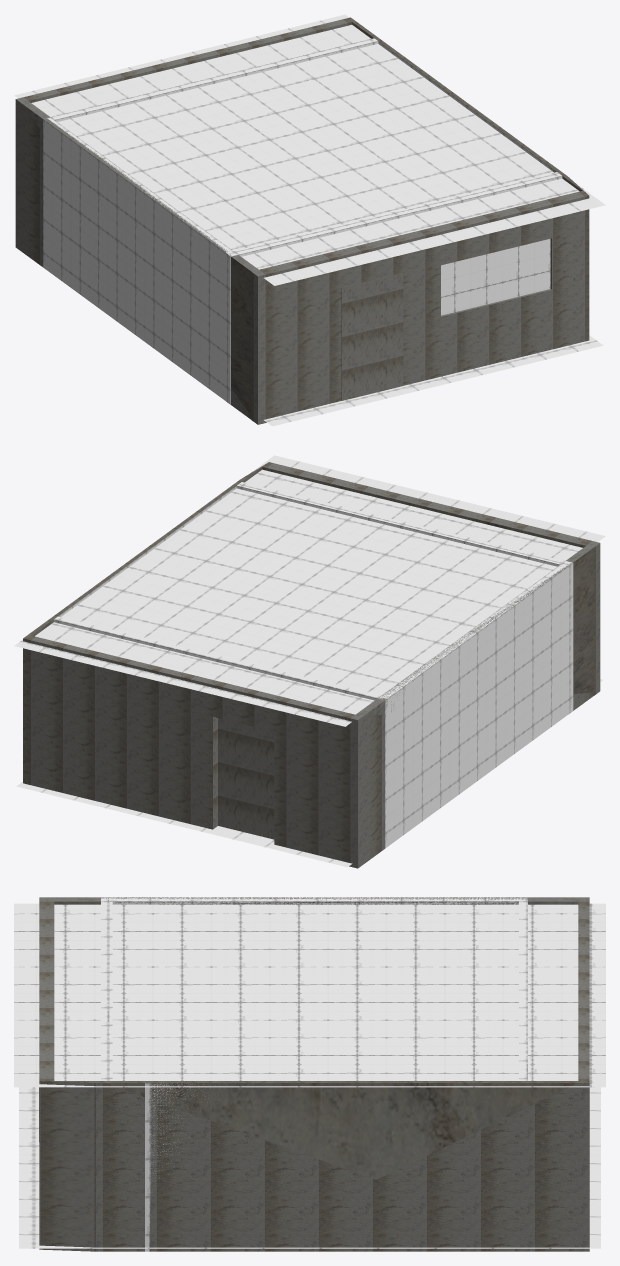
Rendered from RoomWhiteBox.glb.
3 views of the same model, one above another, from view 1: azimuth 30°, elevation 25°; view 2: azimuth 150°, elevation 25°; view 3: azimuth 270°, elevation 25° (orthographic). The views are drawn at different scales.
Parts seen in each view (by area): view 1: Plane__1_, New_Game_Object, Cube.005, Cube_3, Plane; view 2: Plane__1_, New_Game_Object, Cube.005, Plane; view 3: New_Game_Object, Plane__1_, Cube.005, Plane.
Boxes of the visible parts, box(x1,y1,x2,y2) form: Plane__1_: box(14, 14, 605, 285); New_Game_Object: box(15, 17, 589, 424); Cube.005: box(43, 38, 562, 404); Cube_3: box(441, 238, 550, 315); Plane: box(264, 335, 603, 426); Plane__1_: box(14, 455, 605, 726); New_Game_Object: box(23, 462, 600, 868); Cube.005: box(54, 482, 573, 848); Plane: box(16, 679, 602, 867); New_Game_Object: box(39, 897, 589, 1251); Plane__1_: box(14, 903, 605, 1087); Cube.005: box(101, 897, 527, 1251); Plane: box(19, 1087, 600, 1248).
Size of the model in its own units: 10.55 by 4.44 by 14.13.
3 materials, 3 textured.
